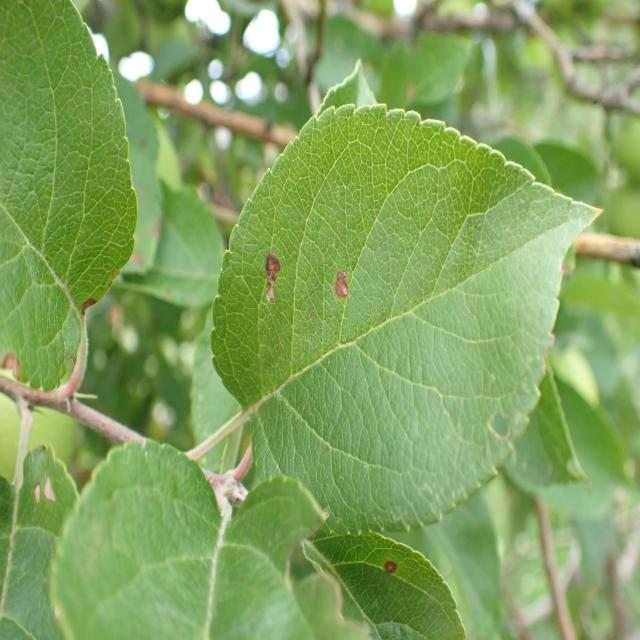Black Rot: (248, 245, 298, 318), (0, 332, 21, 421), (332, 261, 364, 317), (382, 532, 400, 589), (78, 283, 100, 327)
